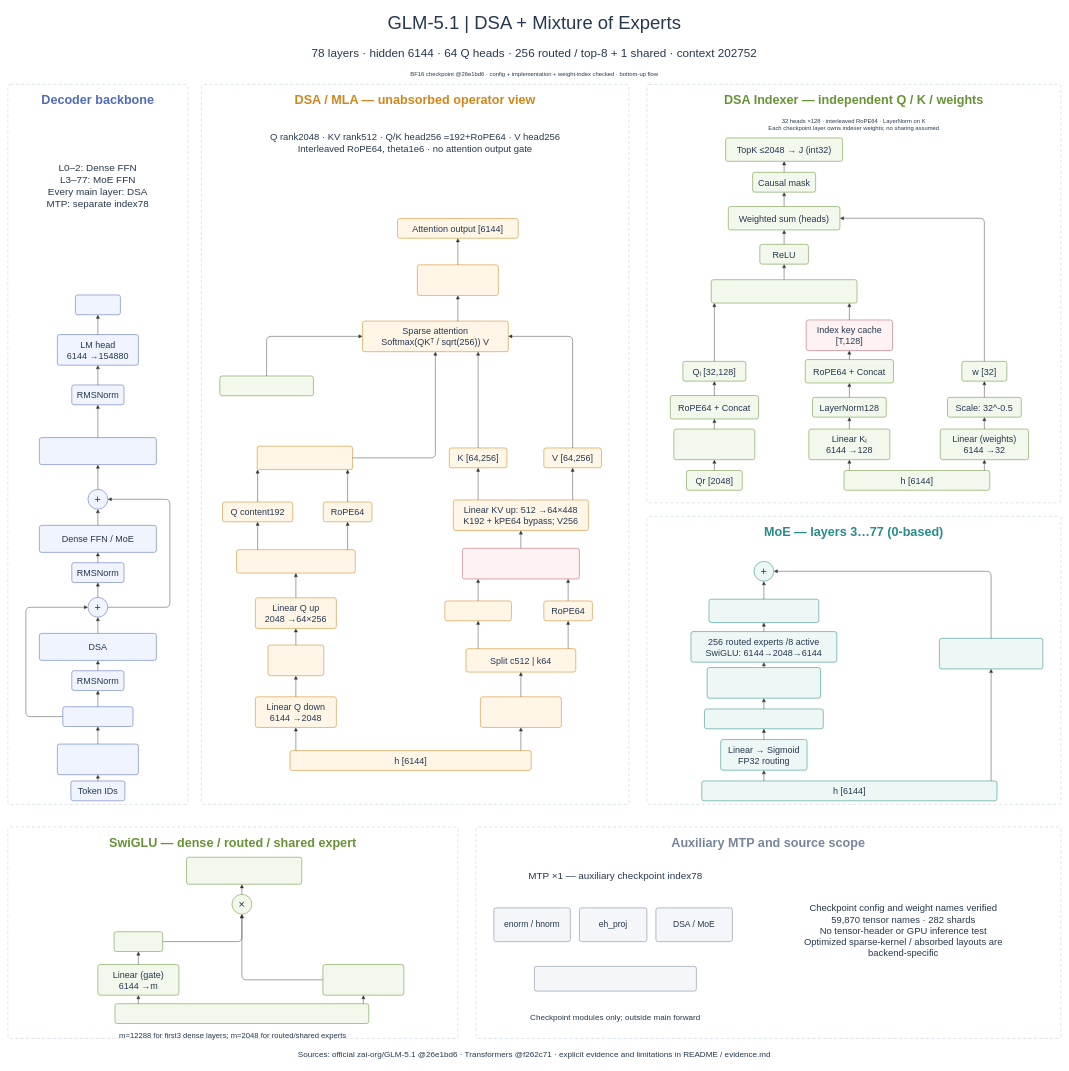
This 1069x1071 diagram has some shape labels left out. Each missing label, with the centre of its shape:
"+ correction bias → Top8" goes at point 763,718.
"Concat Q [64,256]" goes at point 305,458.
"Embedding [154880,6144]" goes at point 97,759.
"Gather original scores Normalize → ×2.5" goes at point 764,682.
"J: selected indices" goes at point 266,385.
"Latent KV cache c512 + positional key64" goes at point 520,563.
"Layer input h" goes at point 97,716.
"Linear (down): m →6144" goes at point 244,870.
"Linear (up) 6144 →m" goes at point 363,979.
"Linear KV down 6144 →512+64" goes at point 520,711.
"Linear O 64×256 →6144" goes at point 457,279.
"Linear Qᵢ 2048 →32×128" goes at point 714,444.
"Logits" goes at point 97,304.
"Matmul (Qᵢ,Kᵢᵀ) / sqrt(128)" goes at point 784,291.
"Repeat 78 layers" goes at point 97,451.
"RMSNorm Qr [2048]" goes at point 295,660.
"RMSNorm512" goes at point 477,610.
"Shared expert ×1 6144→2048→6144" goes at point 991,653.
"shared_head.norm" goes at point 615,978.
"SiLU" goes at point 138,941.
"Split Q: 192 |64" goes at point 295,561.
"Weight outputs → Sum" goes at point 763,611.
"x [6144]" goes at point 241,1013.
